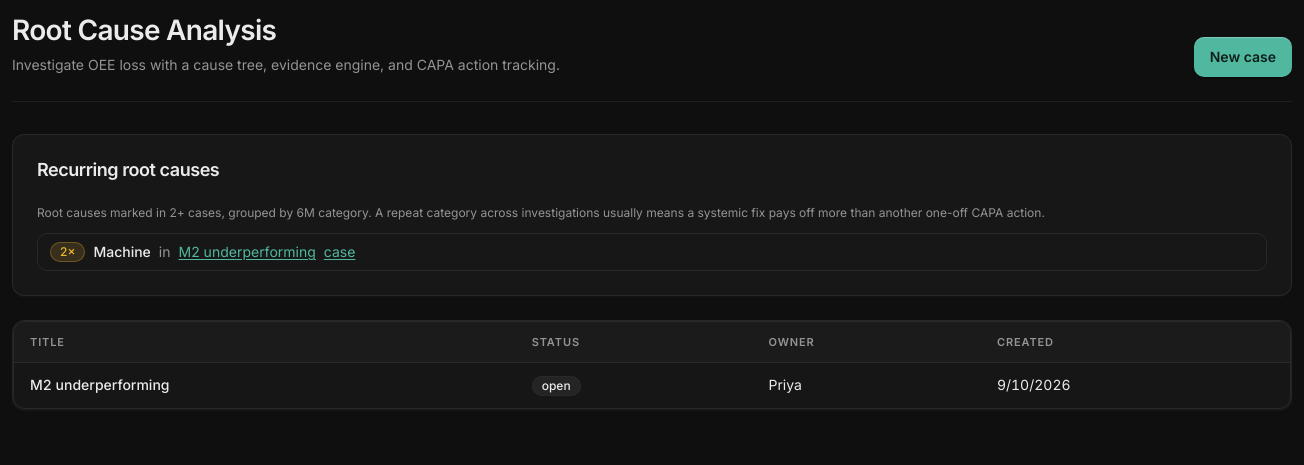
Test: RcaCases list › shows recurring root causes and opens a linked case
The image size is (1304, 465).
Expected: the heading "Recurring root causes" is shown, [37,159,219,180]
Expected: the text "2×" is shown, [50,242,85,262]
second case has no title in the payload, so it falls back to "case"
Click the button "case": (340, 252) [324,242,355,262]
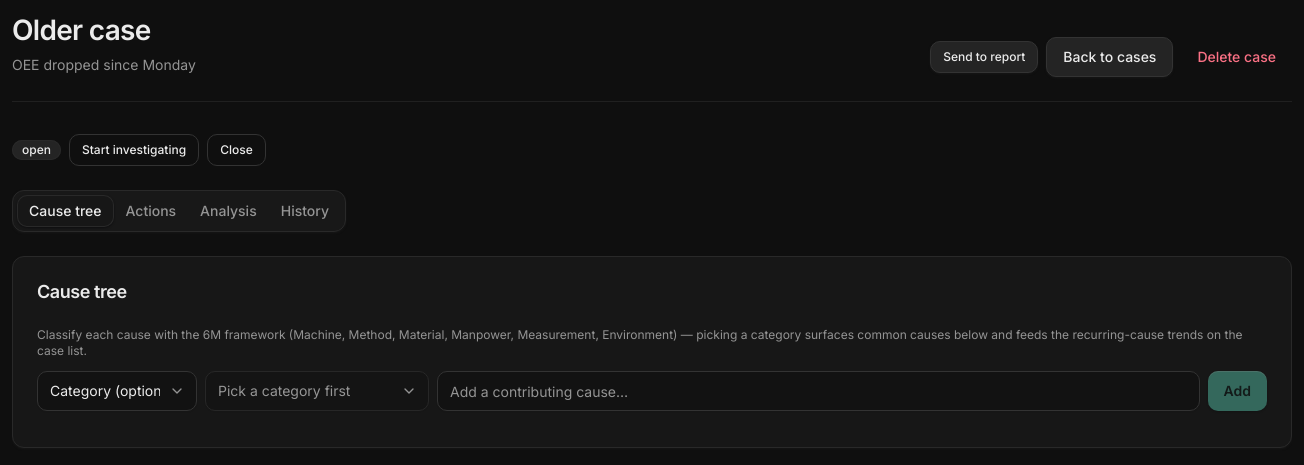
Expected: the heading "Older case" is shown, [12,13,151,47]
